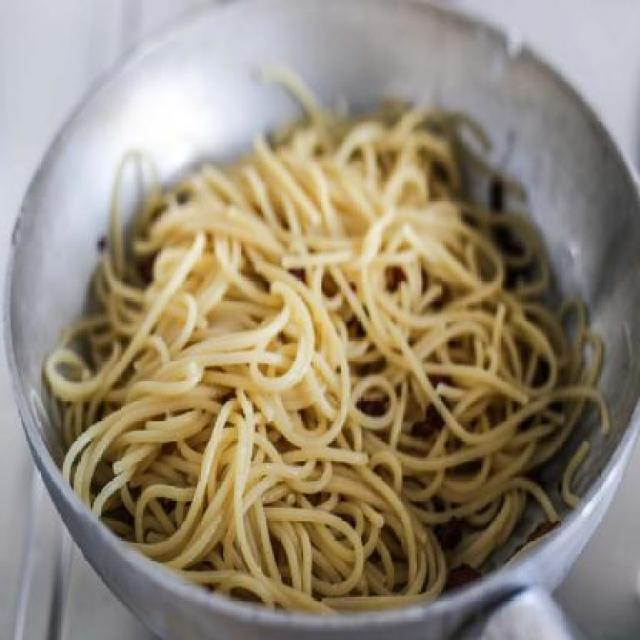Oil pasta: (55, 59, 617, 638)
